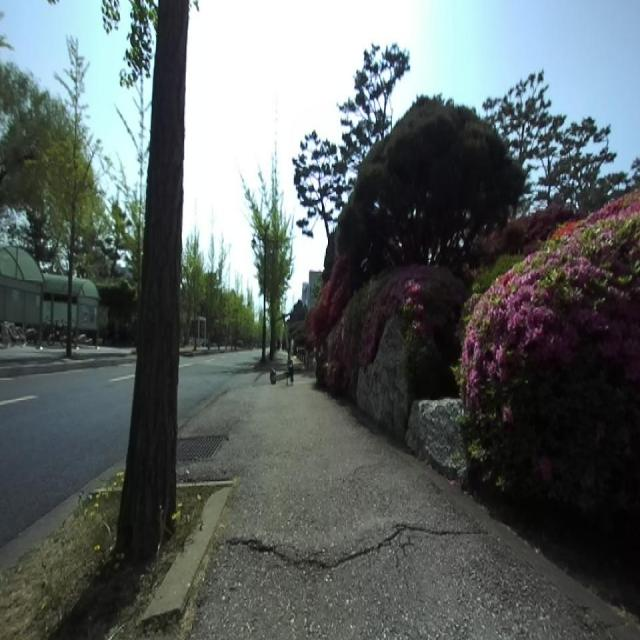sidewalk: (177, 374, 640, 639)
